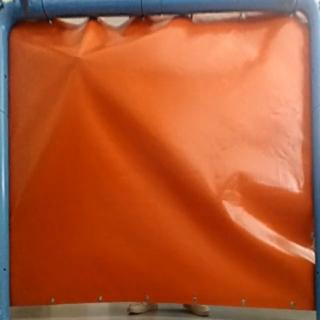Hit-hRxx: (67, 50, 86, 63)
